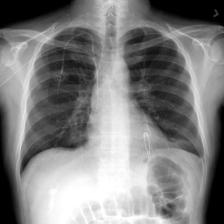normal: (16, 22, 207, 178)
